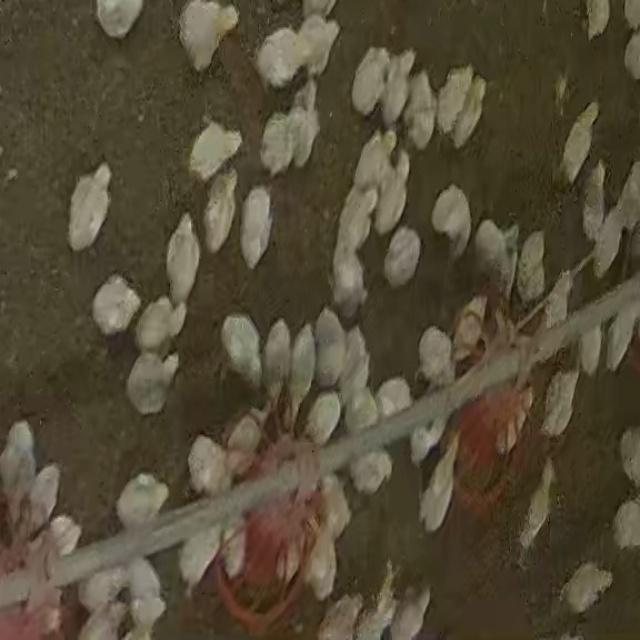chicken: (516, 459, 565, 562), (419, 432, 462, 536), (178, 0, 239, 71), (67, 164, 118, 247), (326, 239, 378, 317), (175, 518, 228, 594), (558, 100, 601, 188), (216, 402, 268, 474), (0, 420, 39, 515), (373, 144, 413, 236), (188, 119, 244, 184), (162, 211, 202, 301), (429, 185, 474, 262), (125, 352, 177, 417), (115, 470, 170, 531), (90, 275, 140, 342), (294, 12, 343, 79), (135, 294, 186, 358), (288, 80, 325, 168), (254, 26, 304, 90), (540, 368, 582, 443), (311, 306, 347, 393), (202, 171, 239, 255), (447, 293, 491, 363), (241, 187, 278, 268), (260, 102, 304, 170), (287, 318, 319, 411), (350, 45, 391, 117), (186, 433, 230, 499), (350, 127, 392, 196), (449, 74, 487, 150), (261, 316, 293, 406), (472, 218, 514, 286), (220, 314, 260, 384), (331, 184, 380, 241), (415, 325, 456, 391), (560, 562, 616, 610), (380, 52, 414, 130), (383, 224, 423, 290), (580, 164, 608, 258), (27, 461, 62, 534), (306, 527, 342, 597), (405, 70, 436, 149), (538, 265, 574, 333), (386, 587, 432, 639), (592, 208, 625, 280), (516, 229, 548, 302), (302, 392, 342, 448), (78, 570, 127, 610), (376, 377, 413, 425), (576, 324, 604, 382)
